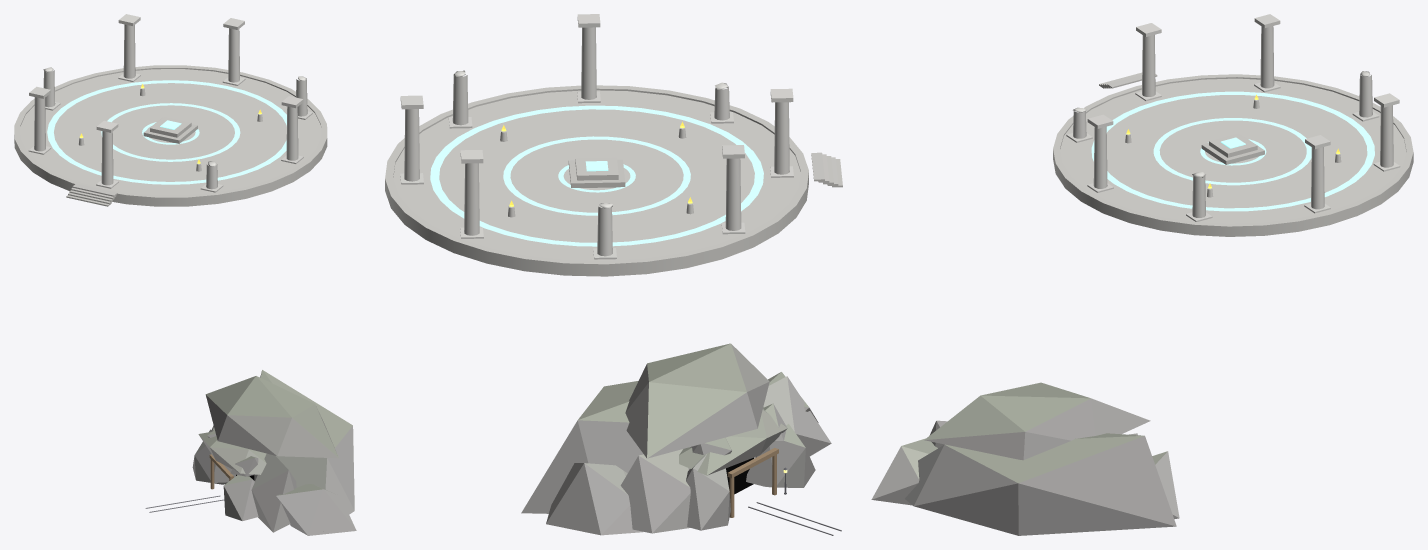
Rendered from struct_14_13.glb.
3 views of the same model, side by side, from view 1: azimuth 30°, elevation 25°; view 2: azimuth 150°, elevation 25°; view 3: azimuth 270°, elevation 25° (orthographic). The views are drawn at different scales.
Parts seen in each view (by area): view 1: Landmarks; view 2: Landmarks; view 3: Landmarks.
Boxes of the visible parts, bbox=[...] form: Landmarks: bbox=[14, 14, 356, 535]; Landmarks: bbox=[385, 14, 842, 535]; Landmarks: bbox=[871, 14, 1413, 535].
Bounding box in the file's own units: 48.23 × 58.68 × 70.66.
